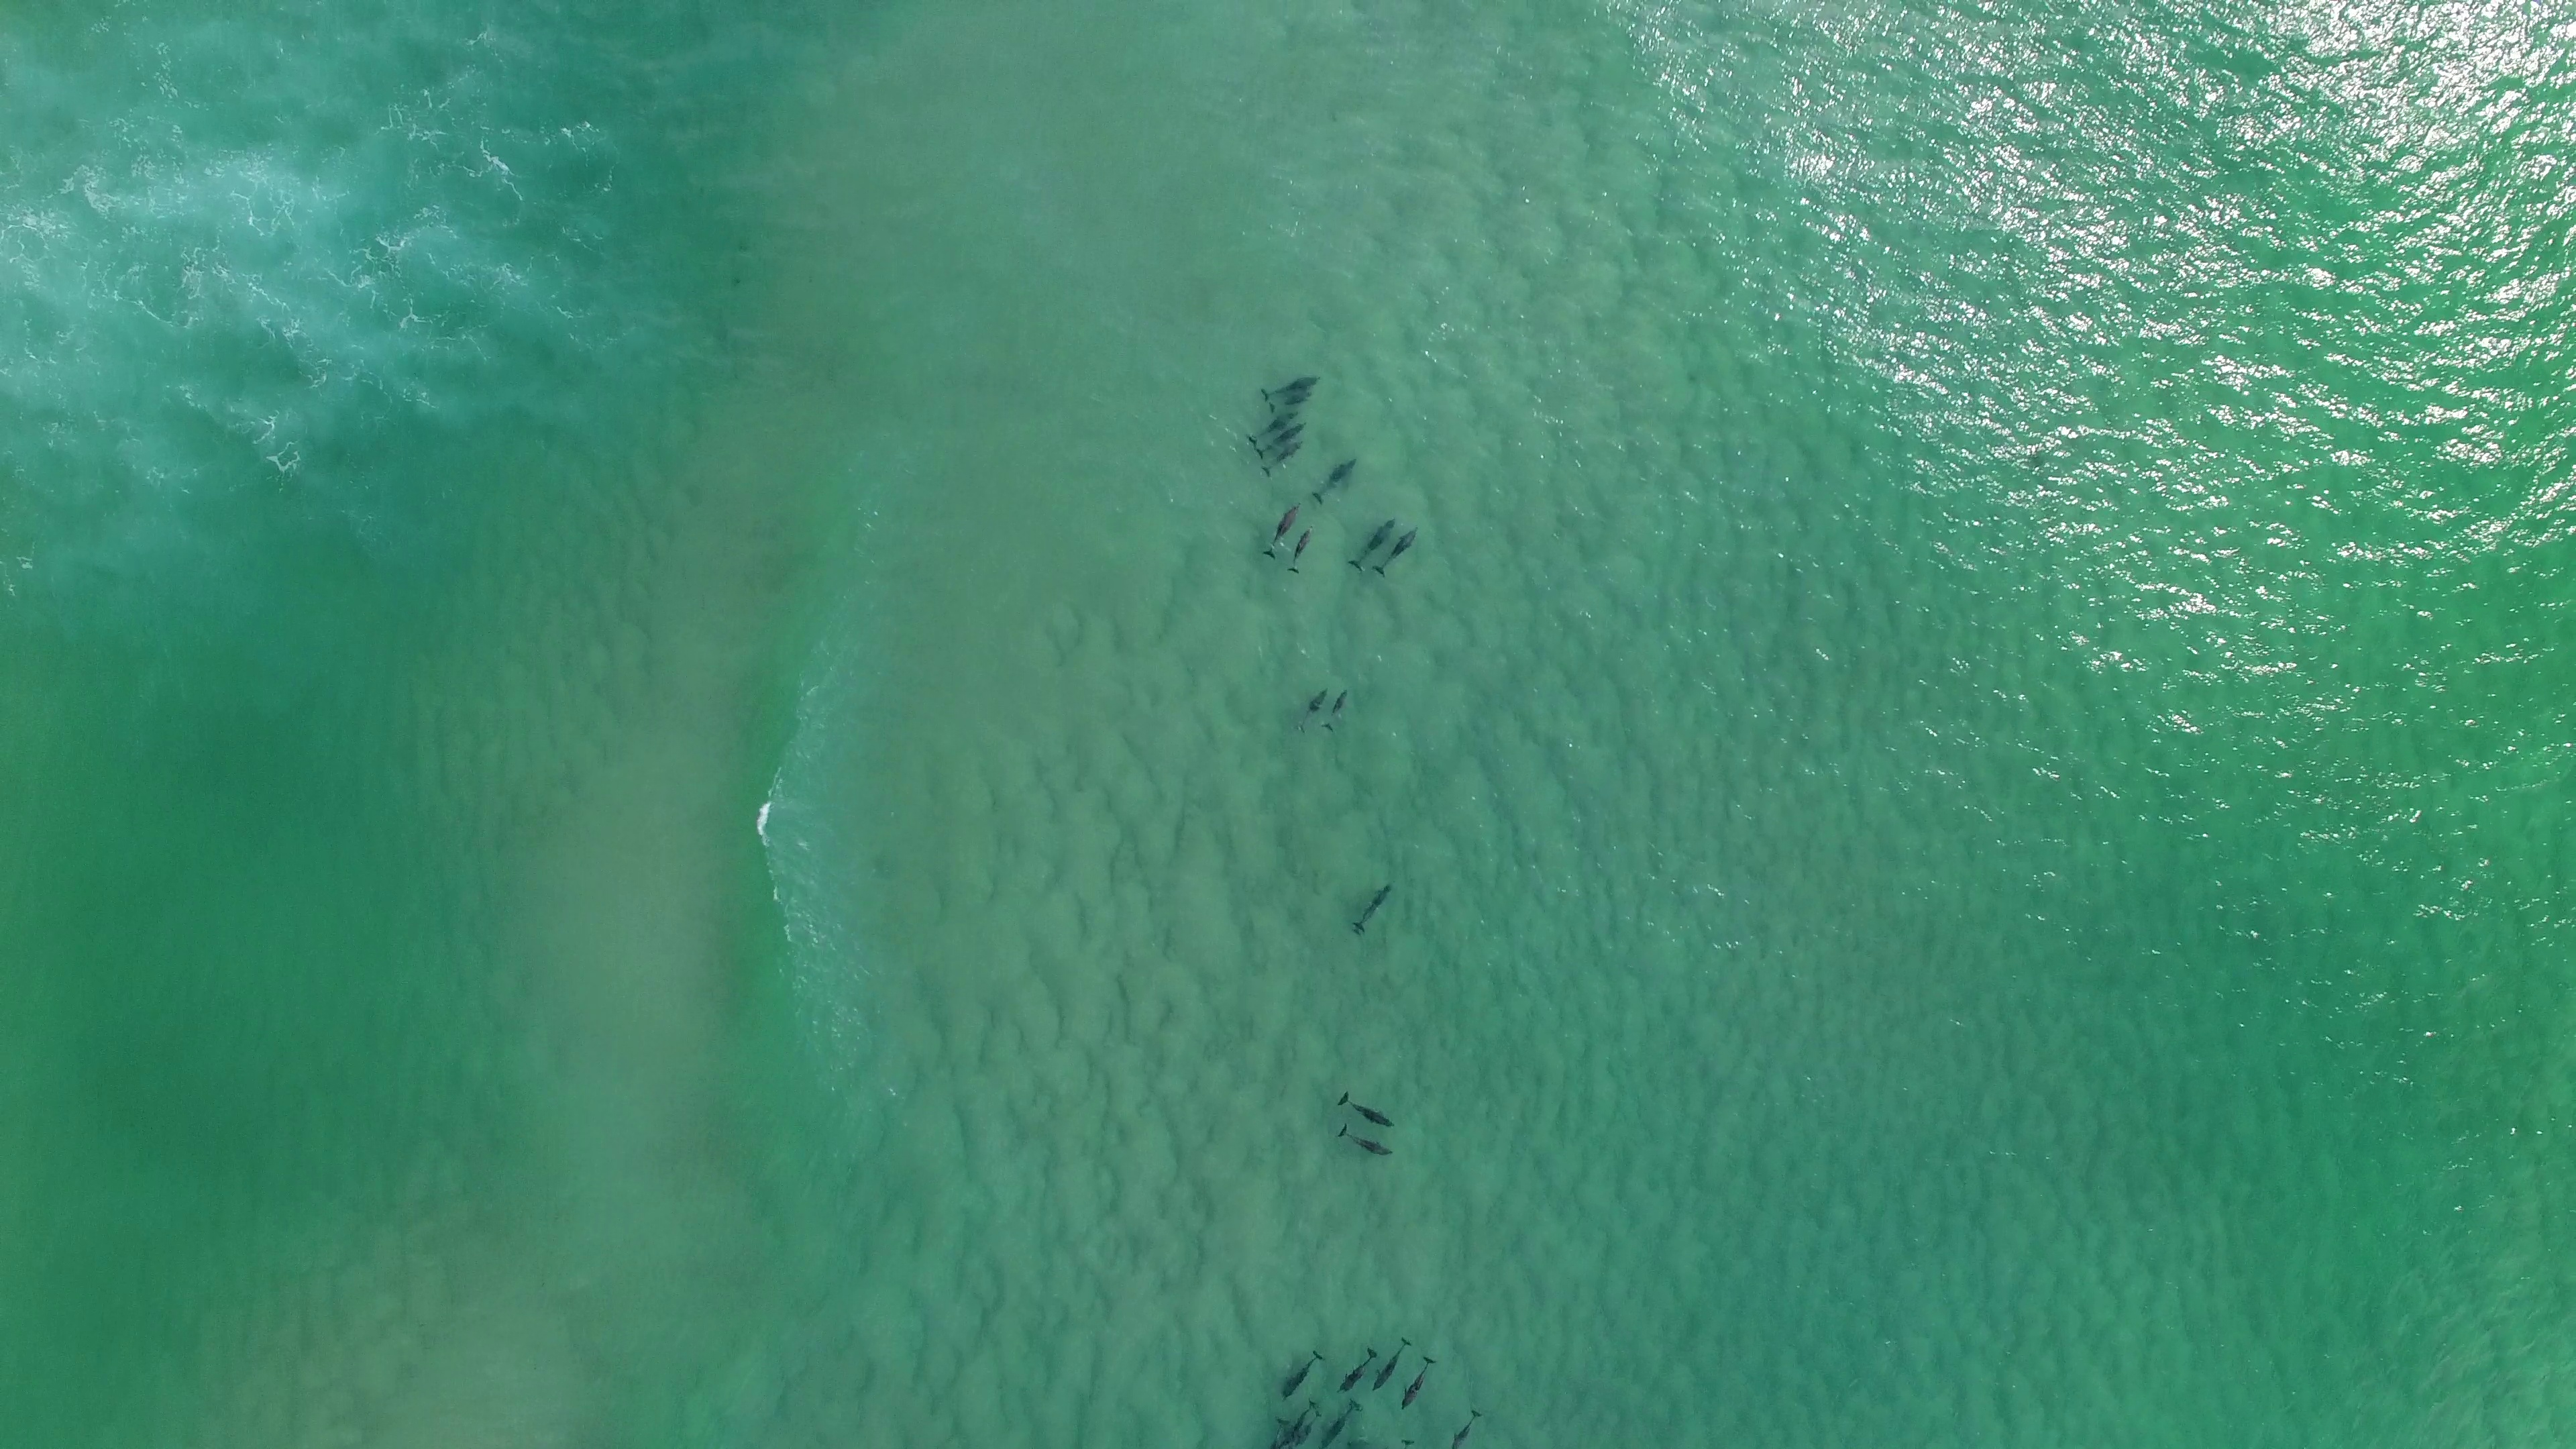dolphin: (1346, 510, 1399, 577), (1260, 497, 1306, 563), (1371, 524, 1424, 579), (1249, 416, 1311, 460), (1311, 453, 1361, 506), (1336, 1090, 1396, 1131), (1398, 1353, 1438, 1412), (1373, 1334, 1414, 1392), (1334, 1346, 1382, 1396), (1315, 1399, 1362, 1449), (1295, 679, 1334, 738), (1279, 1346, 1323, 1398), (1260, 435, 1313, 478), (1336, 1123, 1396, 1161), (1355, 878, 1396, 932), (1246, 405, 1304, 442), (1283, 1394, 1322, 1449), (1260, 370, 1325, 400), (1284, 522, 1318, 580), (1322, 683, 1355, 740), (1451, 1405, 1484, 1449), (1267, 389, 1320, 410)
